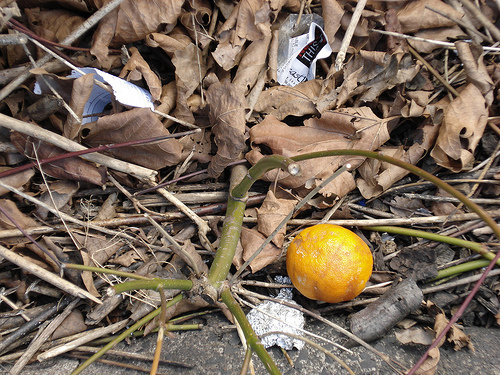litter: (285, 223, 376, 302), (27, 65, 156, 114), (279, 11, 329, 87), (244, 296, 305, 348)
